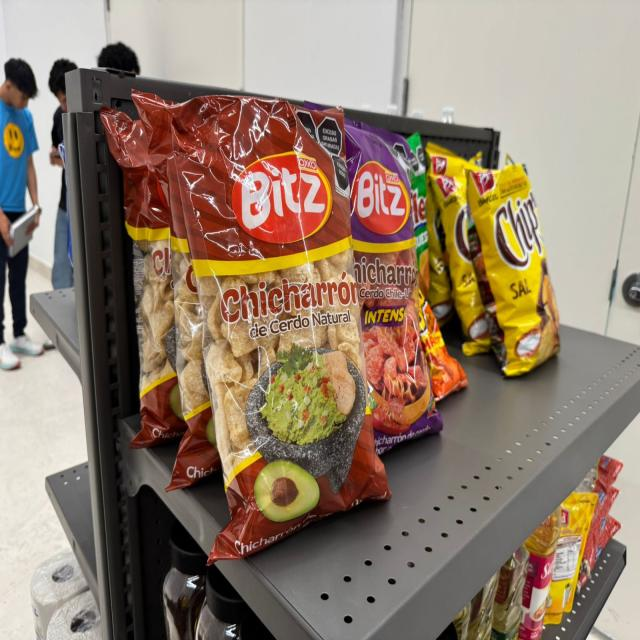Chicharron de Cerdo Natural Bitz 120 gr: (129, 93, 389, 563), (132, 83, 224, 493), (102, 108, 184, 450)
Papas Chips Barcel 170 gr bolsa con sal: (464, 163, 562, 378), (429, 150, 501, 357)
RUFFLES QUESO 185GR: (407, 132, 434, 305)
chicharrones de cerdo intenso: (339, 115, 441, 459)
